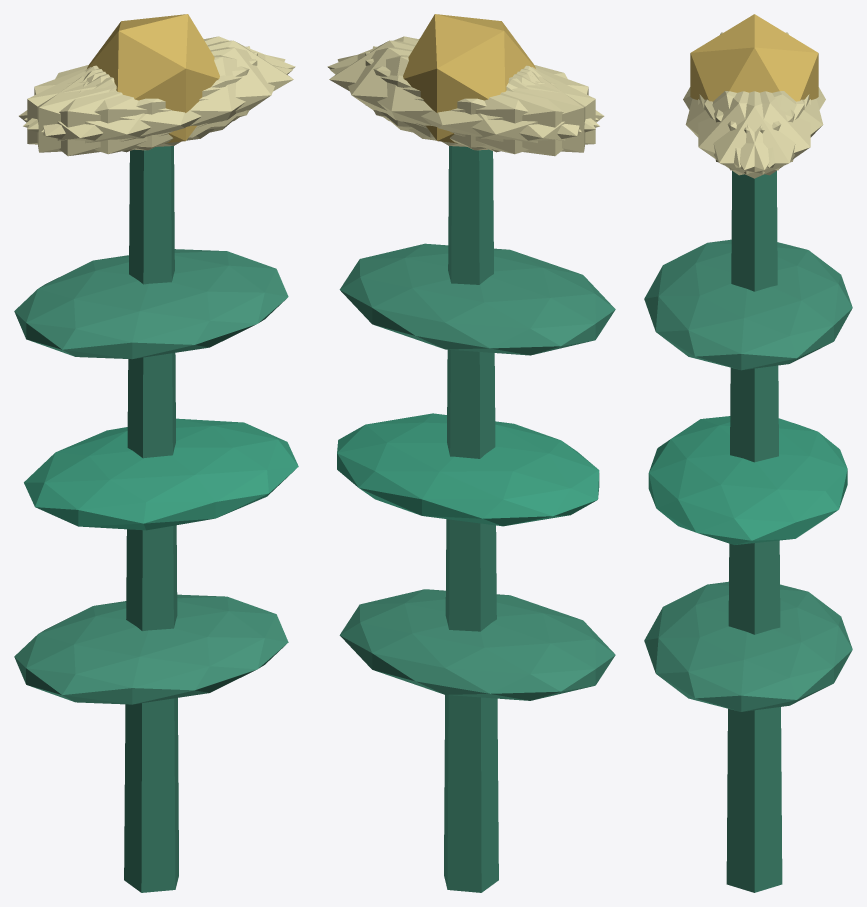
File: tabebuia-pallida.glb
3 renders of one model, left to right at view 1: azimuth 30°, elevation 25°; view 2: azimuth 150°, elevation 25°; view 3: azimuth 270°, elevation 25°, orthographic.
Parts seen in each view (by area): view 1: stem, leaf2, leaf1, leaf0, center, petal1, petal6, petal2, petal5, petal7, petal0, petal4 (+2 smaller); view 2: stem, leaf2, leaf0, leaf1, center, petal8, petal3, petal7, petal4, petal2, petal0, petal5 (+2 smaller); view 3: stem, leaf2, leaf1, leaf0, center, petal0, petal4, petal5, petal1, petal8.
Boxes of the visible parts, x1=… form: stem: x1=124, y1=146, x2=178, y2=892; leaf2: x1=14, y1=249, x2=288, y2=359; leaf1: x1=24, y1=418, x2=298, y2=530; leaf0: x1=14, y1=594, x2=288, y2=704; center: x1=87, y1=14, x2=219, y2=143; petal1: x1=23, y1=55, x2=292, y2=154; petal6: x1=19, y1=67, x2=213, y2=156; petal2: x1=37, y1=46, x2=250, y2=152; petal5: x1=41, y1=47, x2=285, y2=147; petal7: x1=27, y1=52, x2=257, y2=150; petal0: x1=86, y1=40, x2=293, y2=137; petal4: x1=24, y1=36, x2=295, y2=129; stem: x1=444, y1=146, x2=498, y2=892; leaf2: x1=339, y1=243, x2=615, y2=355; leaf0: x1=339, y1=589, x2=615, y2=700; leaf1: x1=337, y1=413, x2=599, y2=526; center: x1=403, y1=14, x2=535, y2=143; petal8: x1=330, y1=55, x2=599, y2=154; petal3: x1=409, y1=67, x2=604, y2=156; petal7: x1=372, y1=46, x2=585, y2=152; petal4: x1=337, y1=47, x2=581, y2=147; petal2: x1=365, y1=52, x2=595, y2=150; petal0: x1=329, y1=40, x2=536, y2=137; petal5: x1=327, y1=36, x2=598, y2=129; stem: x1=726, y1=171, x2=782, y2=892; leaf2: x1=644, y1=239, x2=852, y2=370; leaf1: x1=648, y1=416, x2=847, y2=544; leaf0: x1=644, y1=581, x2=852, y2=711; center: x1=690, y1=14, x2=818, y2=101; petal0: x1=699, y1=91, x2=809, y2=178; petal4: x1=704, y1=91, x2=810, y2=175; petal5: x1=698, y1=91, x2=804, y2=175; petal1: x1=685, y1=91, x2=794, y2=167; petal8: x1=714, y1=91, x2=823, y2=167.
Bounding box in the file's own units: 0.1452 × 0.4482 × 0.0997.
